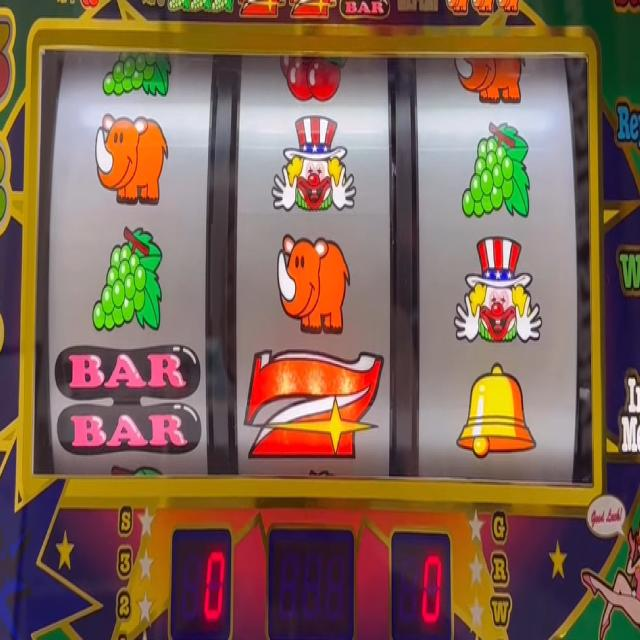bar: (54, 344, 203, 452), (340, 0, 390, 18)
bell: (455, 362, 536, 463)
cherry: (279, 54, 350, 102)
clown: (454, 240, 541, 350), (272, 113, 356, 212)
display: (38, 45, 596, 490)
elephant: (94, 110, 169, 206), (277, 233, 351, 329), (451, 56, 525, 102), (497, 0, 520, 16), (470, 0, 494, 15), (446, 0, 469, 14)
grape: (91, 225, 164, 330), (462, 117, 531, 221), (103, 51, 172, 97), (211, 0, 236, 18), (166, 0, 188, 16), (188, 0, 209, 14)
z: (244, 348, 384, 459), (237, 0, 285, 20), (289, 0, 337, 20)
